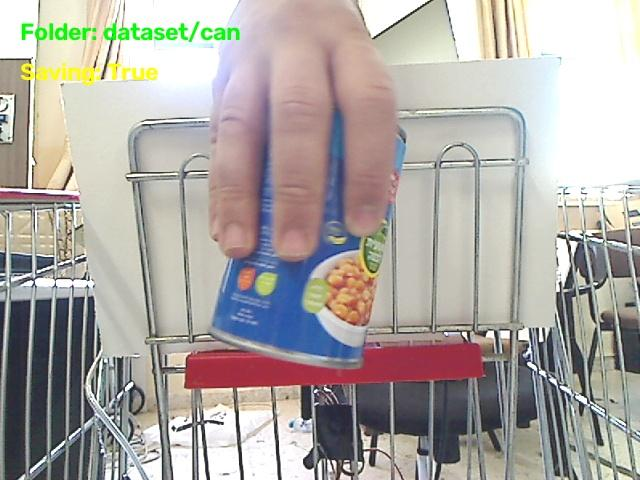can: (210, 114, 405, 367)
